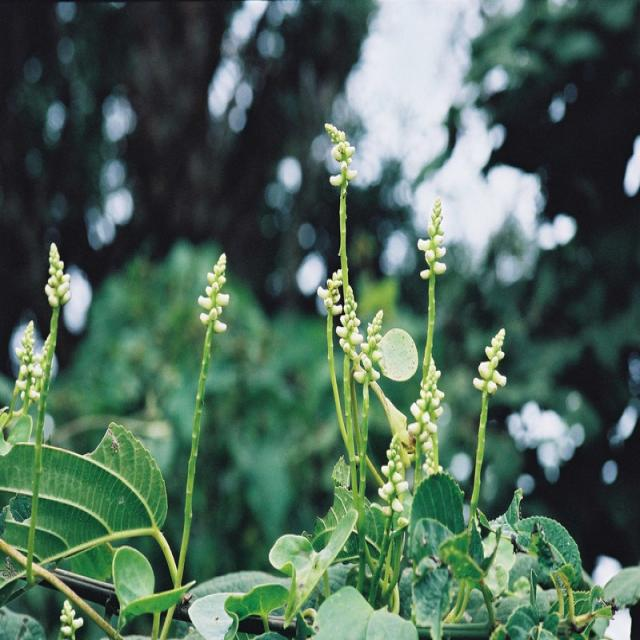Medicinal-Basale: (304, 103, 522, 627), (14, 230, 171, 620), (446, 477, 640, 640), (184, 254, 250, 468)
